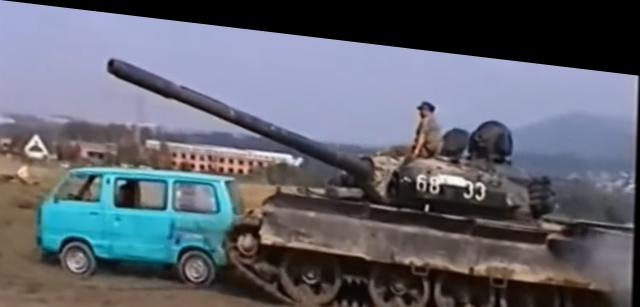other: (246, 148, 627, 306), (412, 84, 443, 145)
